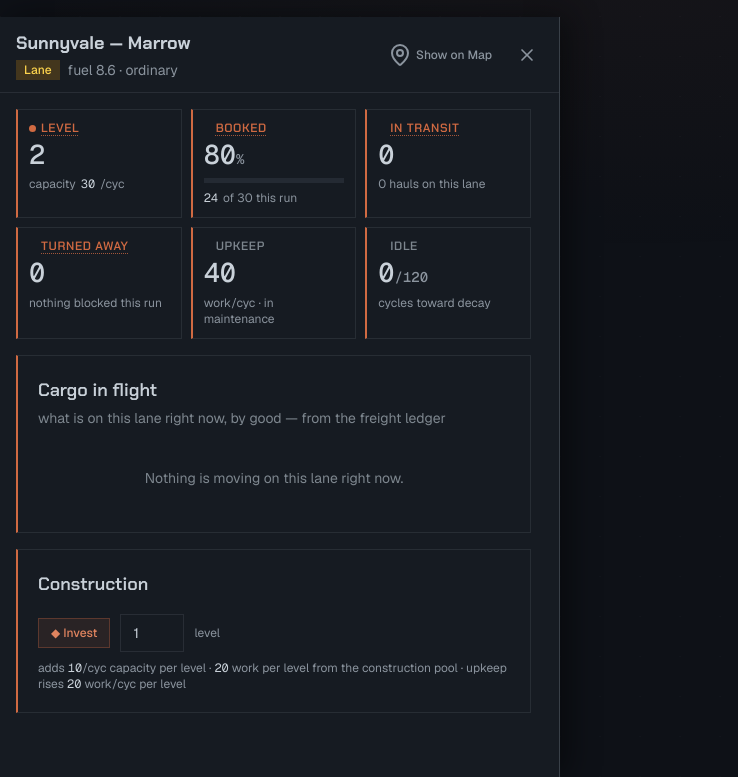
Scenario: LanePanel › disables the invest verb past the order ceiling and says why
Replace the text in the number field named "Levels" with "101" at (152, 633), box [120,614,184,652]
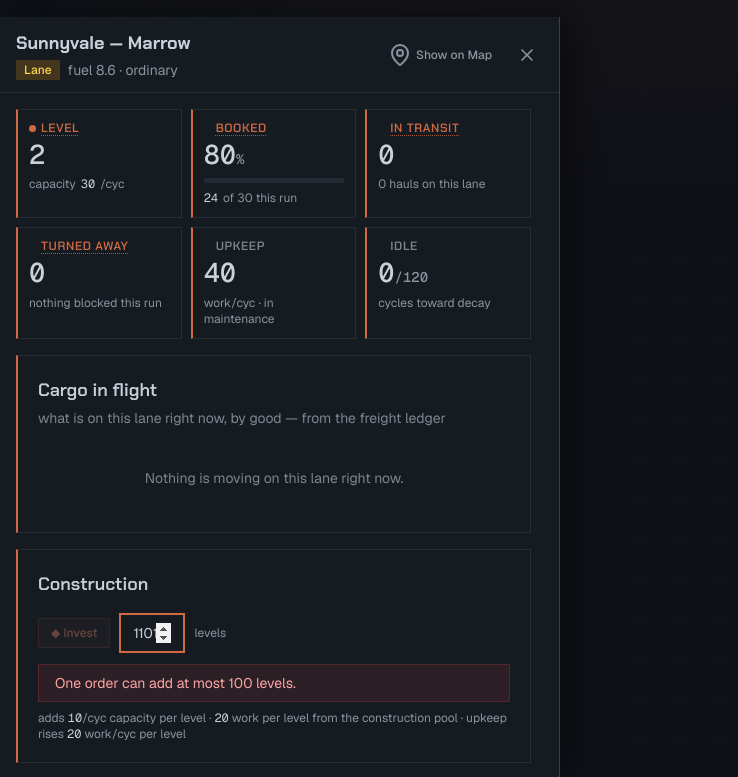
Expected: the button "◆ Invest" is disabled, [38,618,110,648]
